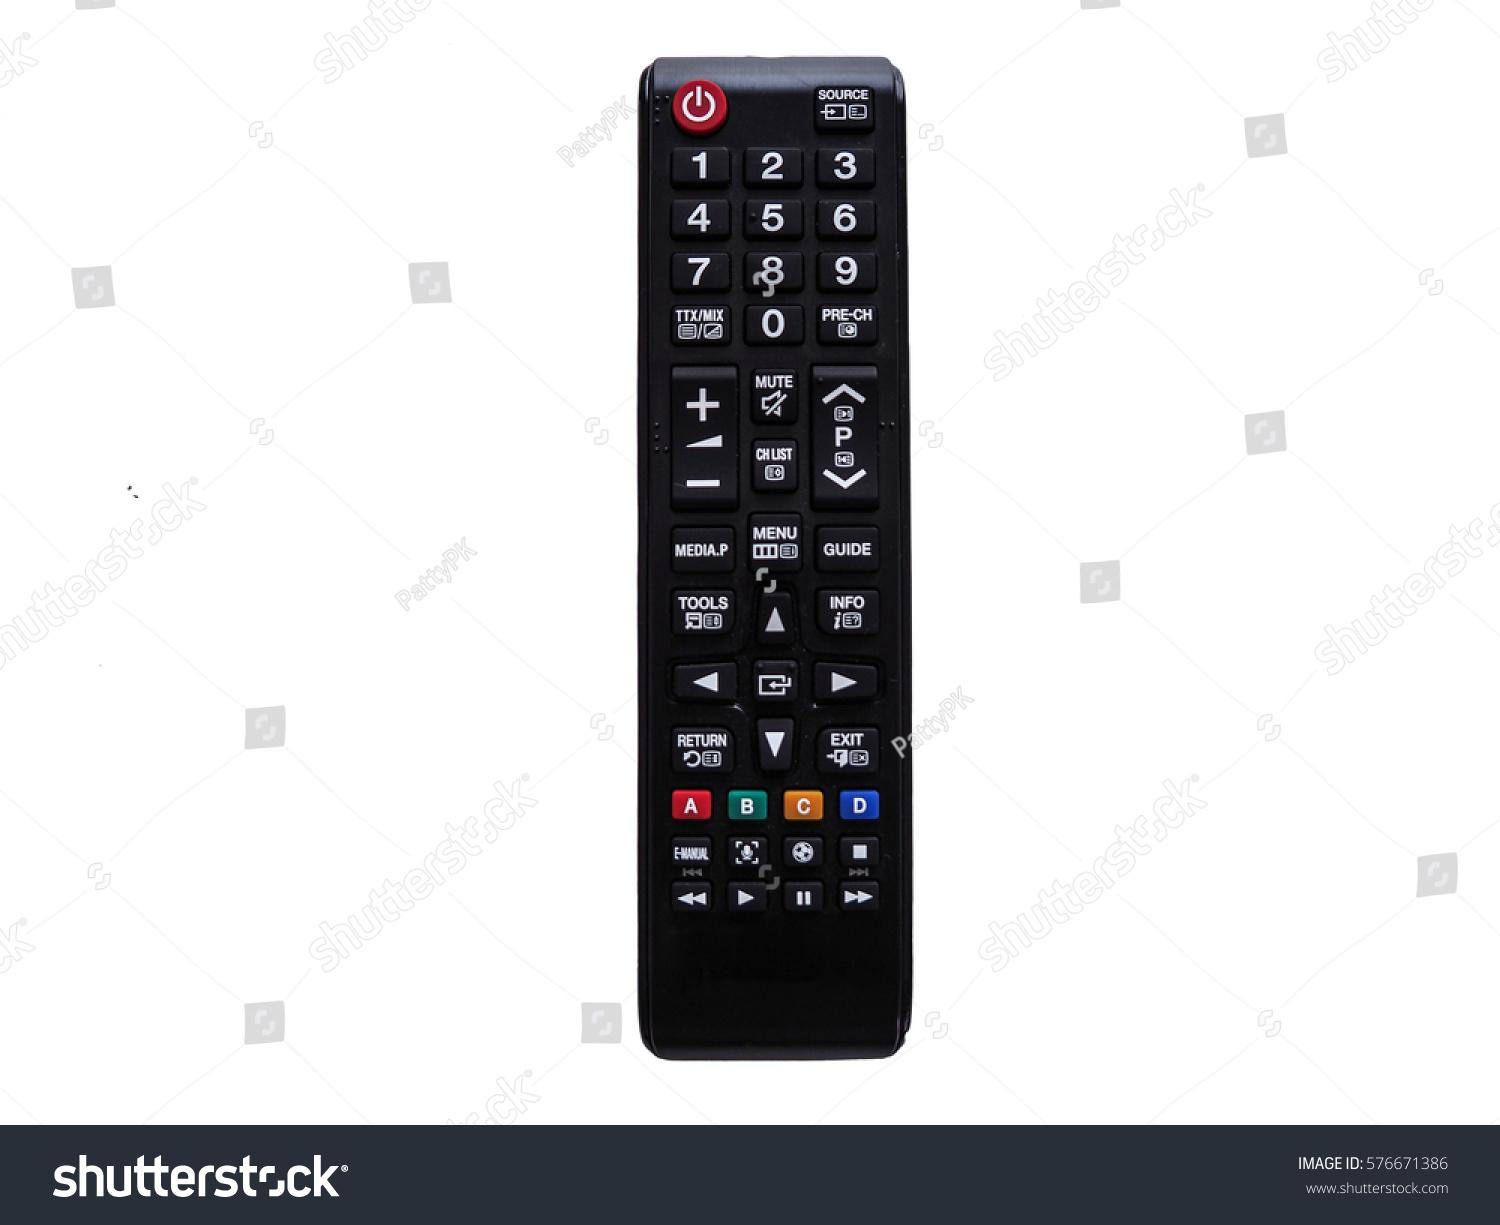Remote control: (635, 54, 917, 1067)
